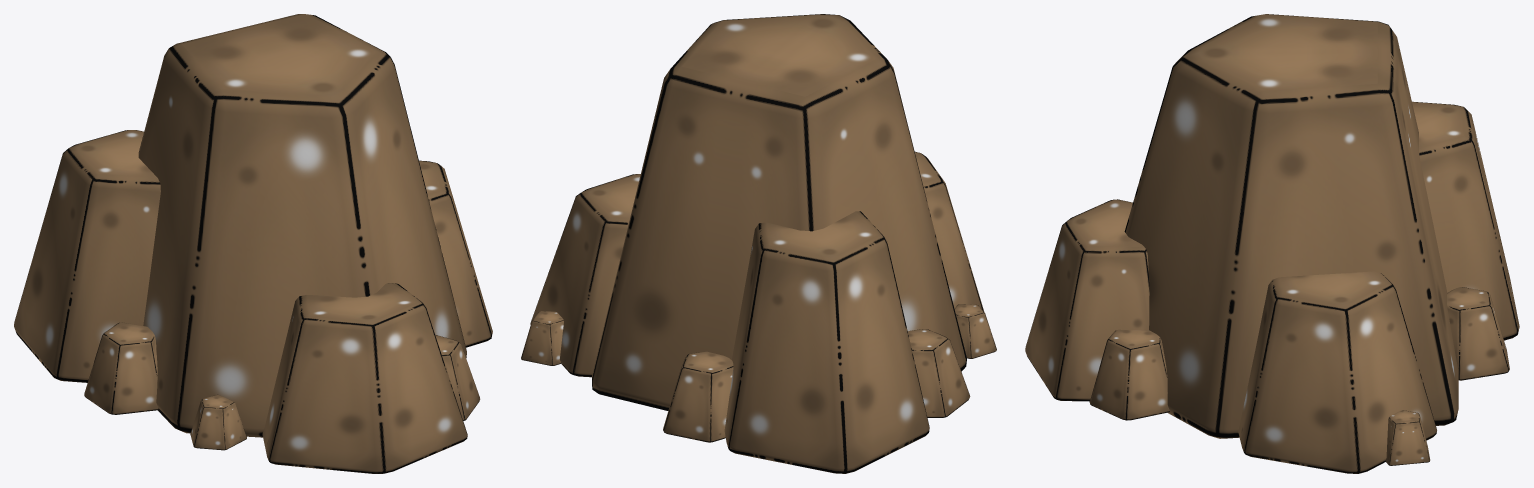
The model's file is Rock1.glb.
The picture shows the model from 3 angles, left to right: view 1: azimuth 30°, elevation 25°; view 2: azimuth 150°, elevation 25°; view 3: azimuth 270°, elevation 25°; orthographic projection.
Visible parts, largest first — view 1: Cube, Cube.004, Cube.002, Cube.006, Cube.003, Cube.007, Cube.005; view 2: Cube, Cube.002, Cube.003, Cube.001, Cube.004, Cube.006, Cube.008, Cube.007; view 3: Cube, Cube.003, Cube.004, Cube.002, Cube.005, Cube.001, Cube.008.
Boxes of the visible parts, x1,y1,x2,y2 form: Cube: (138, 14, 466, 437); Cube.004: (262, 283, 467, 473); Cube.002: (14, 130, 160, 382); Cube.006: (84, 322, 158, 414); Cube.003: (419, 160, 492, 347); Cube.007: (190, 394, 246, 450); Cube.005: (435, 335, 480, 420); Cube: (592, 14, 966, 410); Cube.002: (724, 211, 929, 473); Cube.003: (530, 174, 640, 377); Cube.001: (663, 351, 733, 442); Cube.004: (915, 151, 984, 311); Cube.006: (907, 329, 970, 417); Cube.008: (521, 311, 563, 365); Cube.007: (954, 304, 996, 358); Cube: (1124, 14, 1458, 438); Cube.003: (1238, 271, 1436, 473); Cube.004: (1025, 199, 1149, 401); Cube.002: (1412, 101, 1519, 340); Cube.005: (1089, 329, 1169, 420); Cube.001: (1447, 287, 1509, 380); Cube.008: (1385, 410, 1430, 465).
Bounding box in the file's own units: 2.73 × 2 × 2.82.
1 material, 1 textured.
